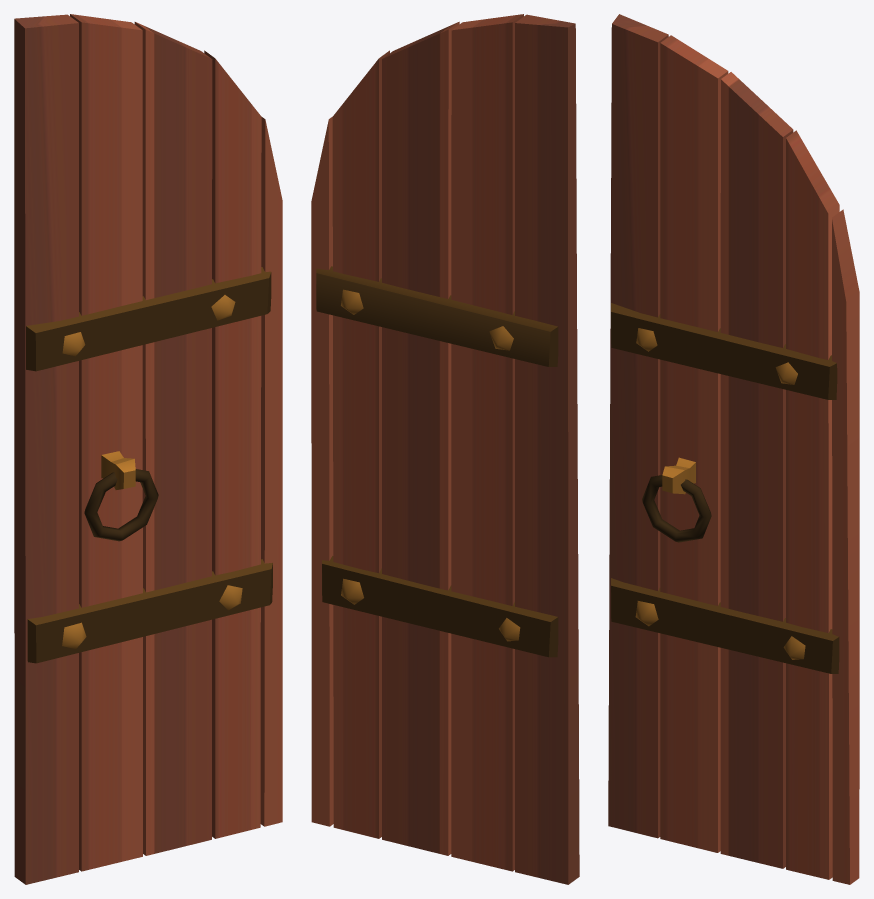
File: Castle-gate-door-right.fbx
3 views of the same model, side by side, from view 1: azimuth 30°, elevation 25°; view 2: azimuth 150°, elevation 25°; view 3: azimuth 330°, elevation 25° (orthographic). The views are drawn at different scales.
Visible parts, largest first — view 1: Castle-gate-door-right; view 2: Castle-gate-door-right; view 3: Castle-gate-door-right.
Boxes of the visible parts, x1,y1,x2,y2 form: Castle-gate-door-right: (14, 14, 282, 884); Castle-gate-door-right: (311, 14, 579, 884); Castle-gate-door-right: (608, 14, 859, 884).
Size of the model in its own units: 1.1 by 3.5 by 0.3051.
